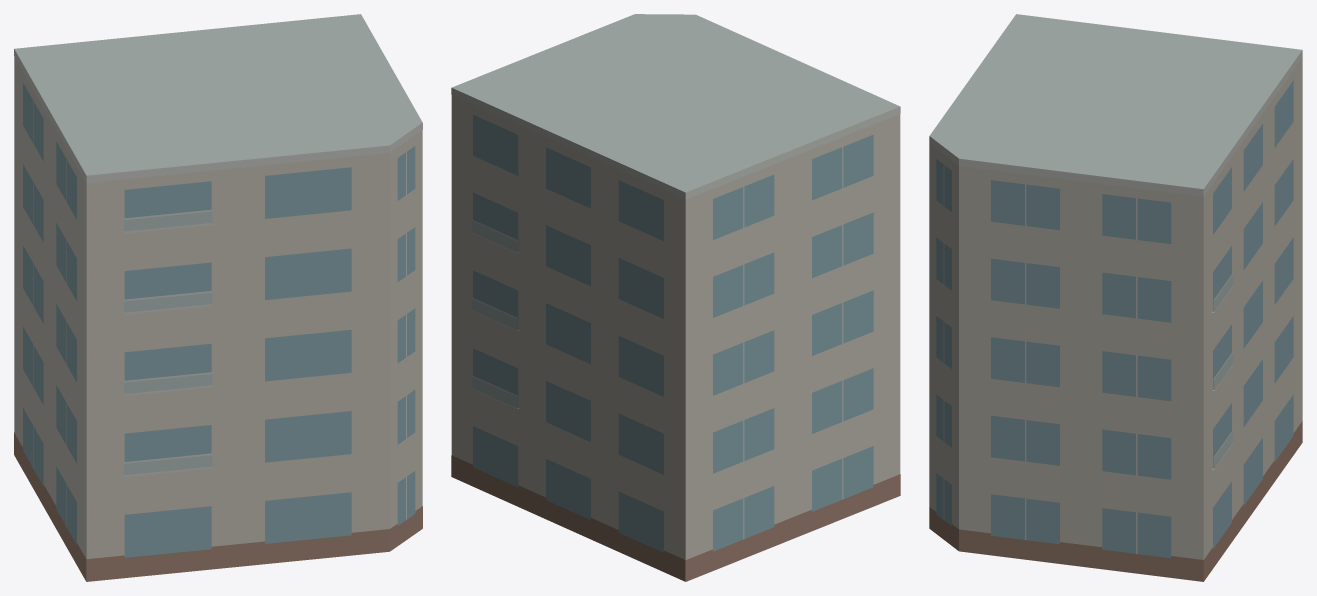
The model's file is survey-upis-33015306.glb.
The picture shows the model from 3 angles, left to right: view 1: azimuth 30°, elevation 25°; view 2: azimuth 150°, elevation 25°; view 3: azimuth 270°, elevation 25°; orthographic projection. The views are drawn at different scales.
Parts seen in each view (by area): view 1: survey-upis-33015306.tmp; view 2: survey-upis-33015306.tmp; view 3: survey-upis-33015306.tmp.
Boxes of the visible parts, x1=… form: survey-upis-33015306.tmp: x1=14, y1=14, x2=422, y2=581; survey-upis-33015306.tmp: x1=451, y1=14, x2=900, y2=581; survey-upis-33015306.tmp: x1=929, y1=14, x2=1302, y2=581.
Bounding box in the file's own units: 12.74 × 13.3 × 11.47.
